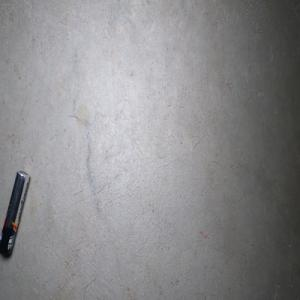Battery: (0, 170, 30, 256)
